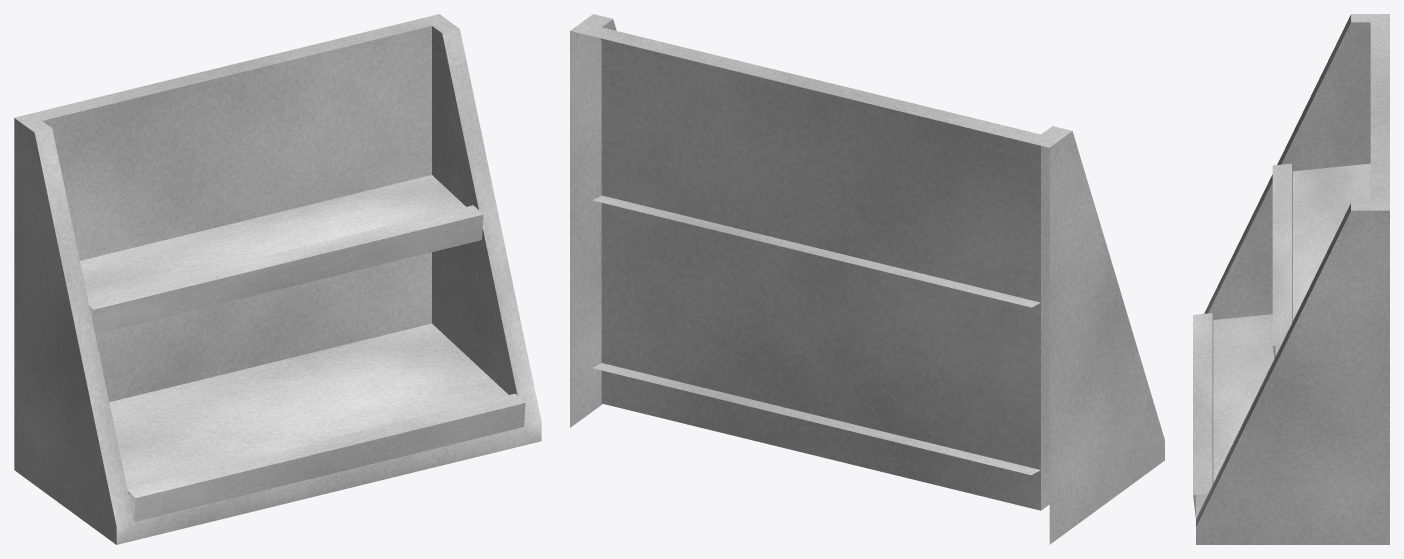
File: ShopShelves.fbx
3 renders of one model, left to right at view 1: azimuth 30°, elevation 25°; view 2: azimuth 150°, elevation 25°; view 3: azimuth 270°, elevation 25°, orthographic. The views are drawn at different scales.
Parts seen in each view (by area): view 1: ShopShelves; view 2: ShopShelves; view 3: ShopShelves.
Part boxes in pixels (x1=…): ShopShelves: x1=14, y1=14, x2=541, y2=544; ShopShelves: x1=570, y1=14, x2=1164, y2=544; ShopShelves: x1=1193, y1=14, x2=1389, y2=544.
Bounding box in the file's own units: 2 × 1.58 × 0.8454.
